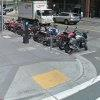Motorcycle: (39, 25, 91, 58)
